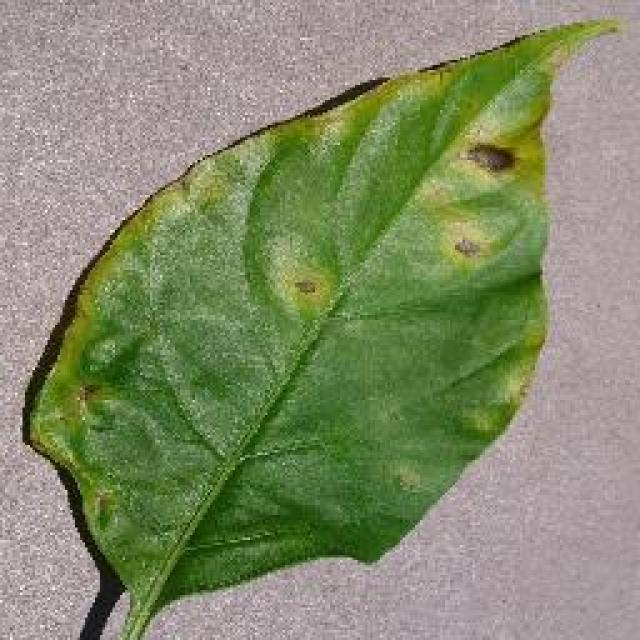Chilli_Bacterial_Spot: (18, 12, 622, 638), (242, 117, 542, 325), (428, 130, 528, 272), (260, 232, 342, 322), (433, 215, 495, 270), (458, 138, 520, 180), (280, 270, 330, 310), (390, 458, 425, 498), (448, 232, 480, 262), (73, 378, 105, 408), (288, 272, 320, 300)
